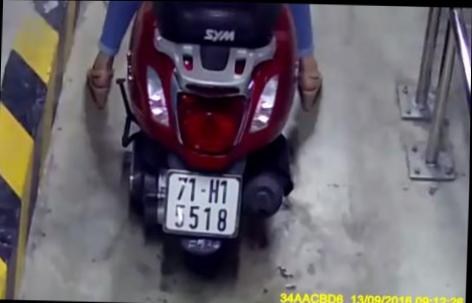LP: (165, 169, 243, 238)
